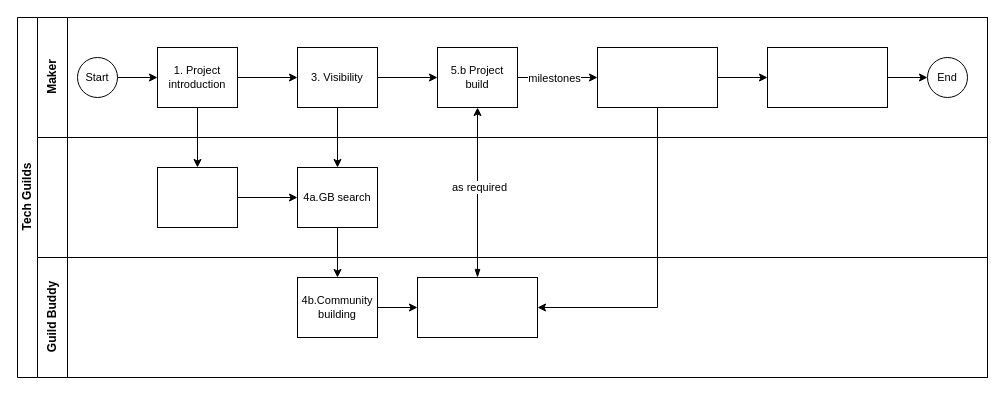
Image size: 1005x395. Some labels were removed from this diagram. The shapes that lost their labels are listed below. From the top down, each one's box as (x1, y1, x2, y2) in pixels, then its label:
(596, 46, 718, 108): 6. Project Presentation
(766, 46, 888, 108): 7. Historical listing on website
(156, 166, 238, 228): 2. Guild placement
(36, 136, 988, 258): Guilds
(416, 276, 538, 338): 5.a Mentoring, motivation advice, problem resolution
